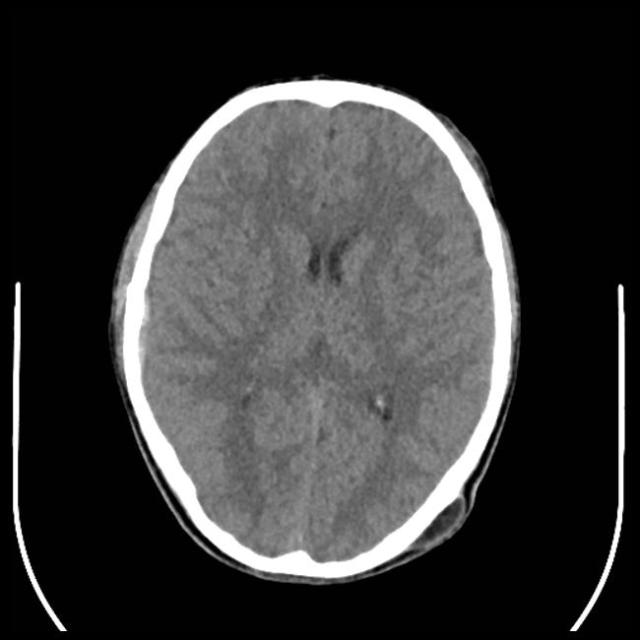lesion: (107, 75, 524, 583)
